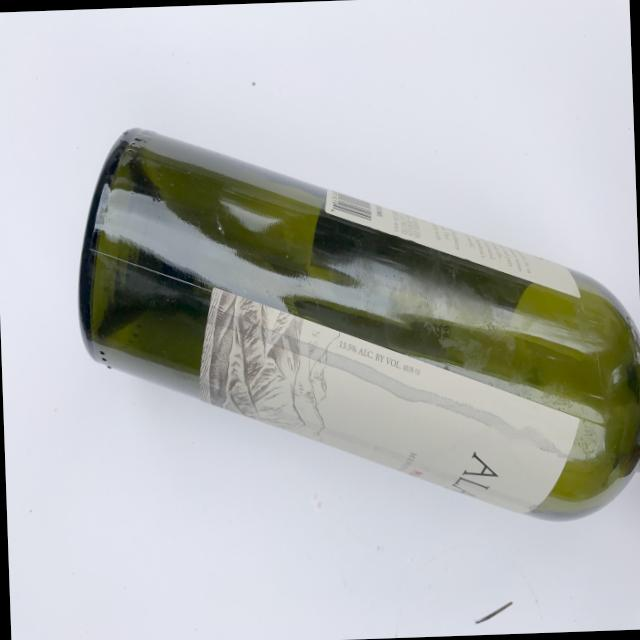Glass: (63, 103, 640, 541)
